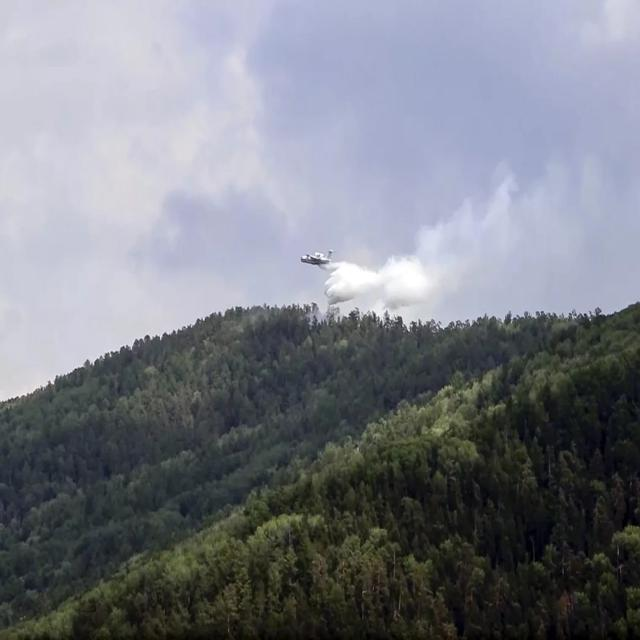MIL_Plane: (300, 249, 339, 266)
